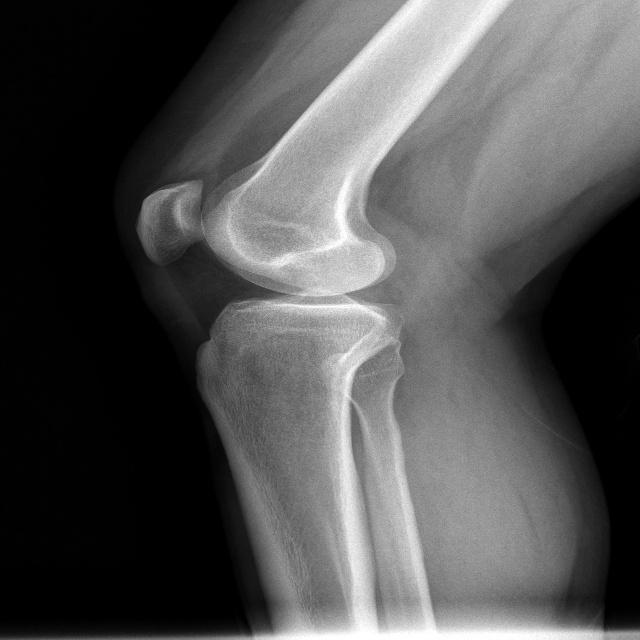Knee: (135, 176, 406, 385)
